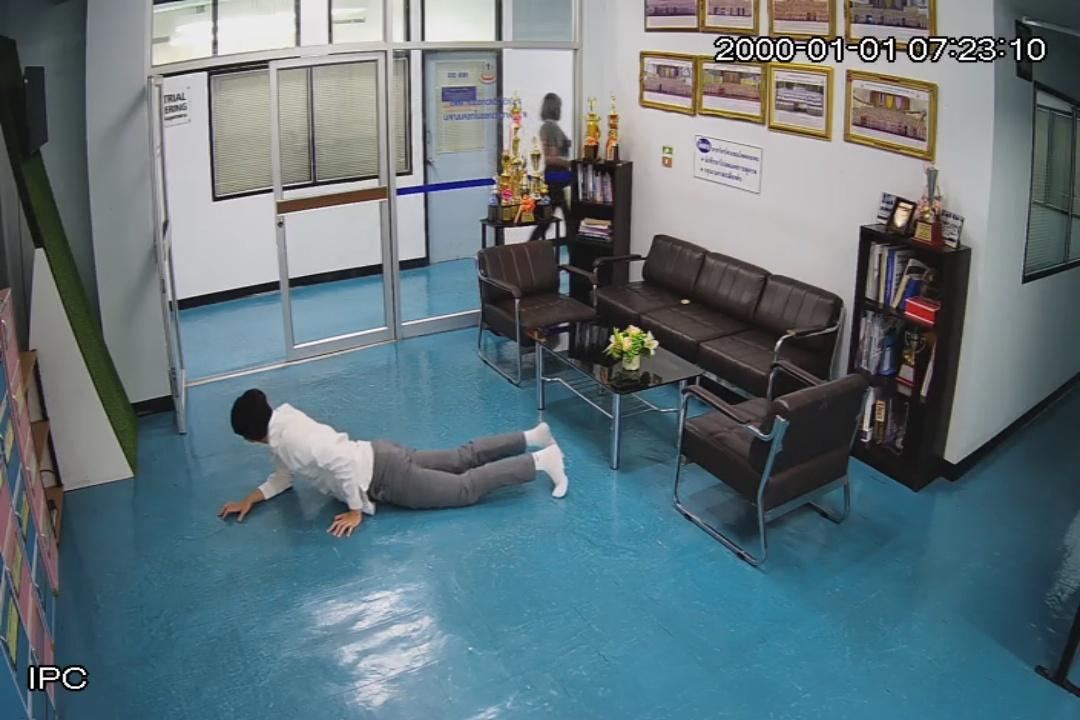fall: (218, 378, 580, 534)
normal: (525, 92, 580, 264)
